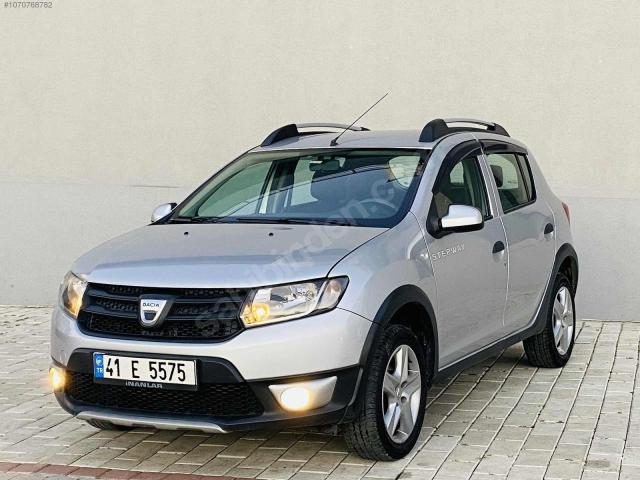plaka: (94, 353, 197, 389)
